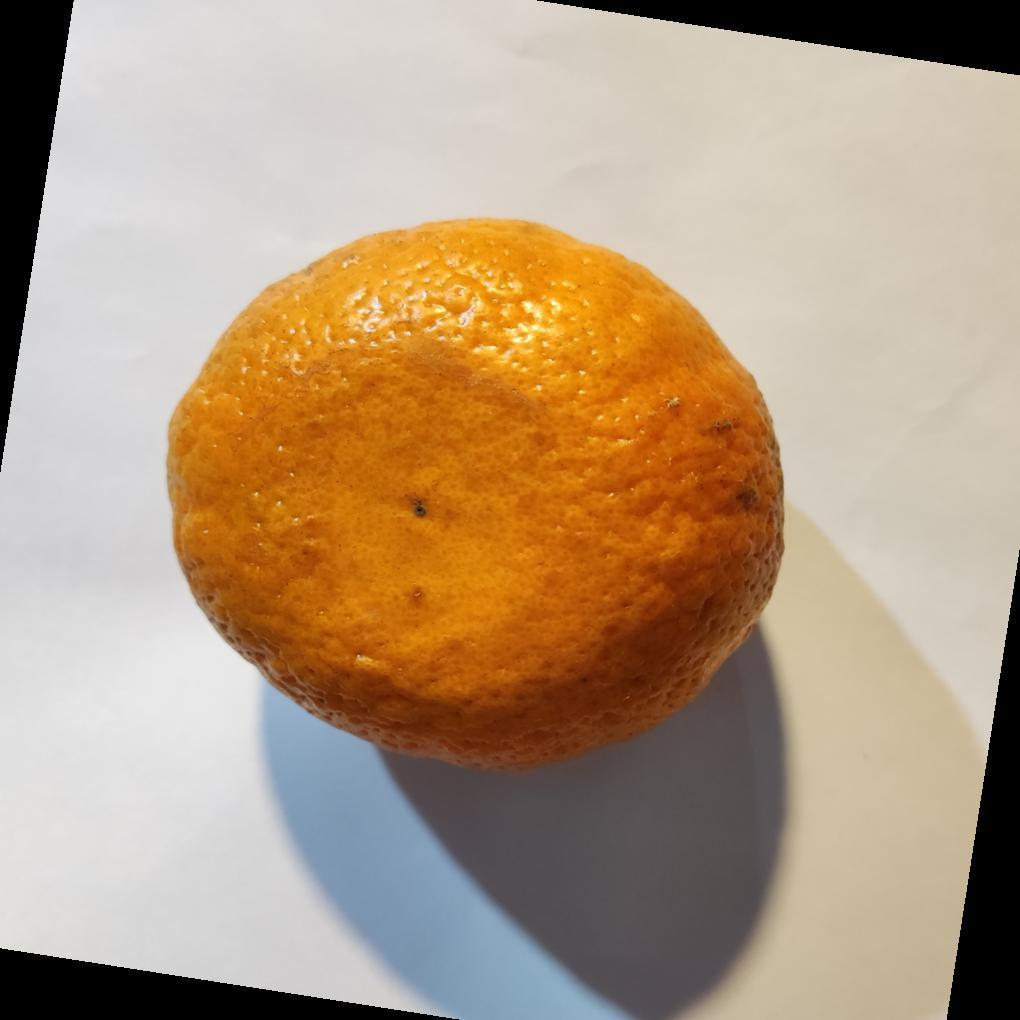FreshGuava: (164, 219, 786, 776)
